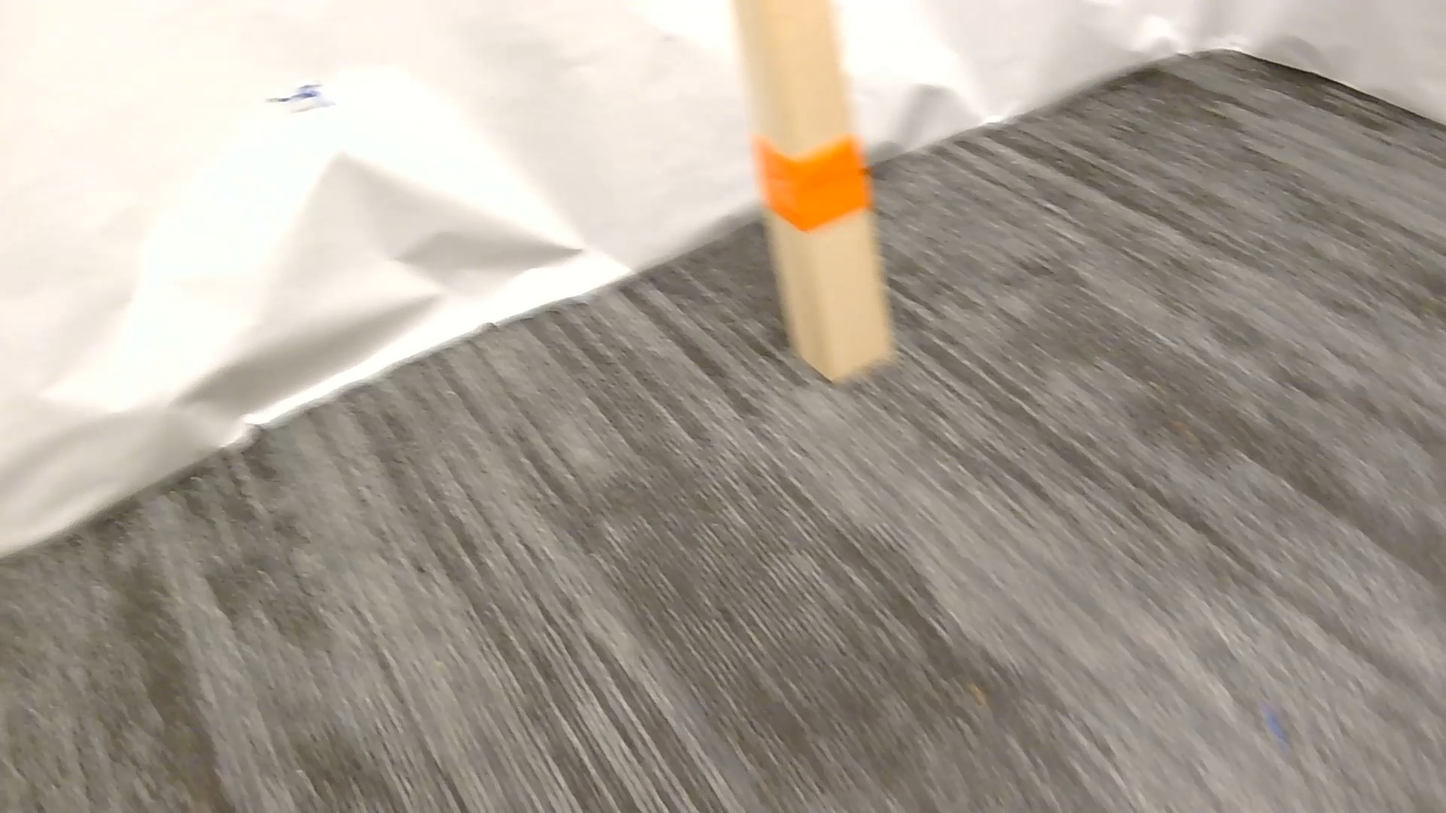Wooden Block: (731, 0, 893, 380)
